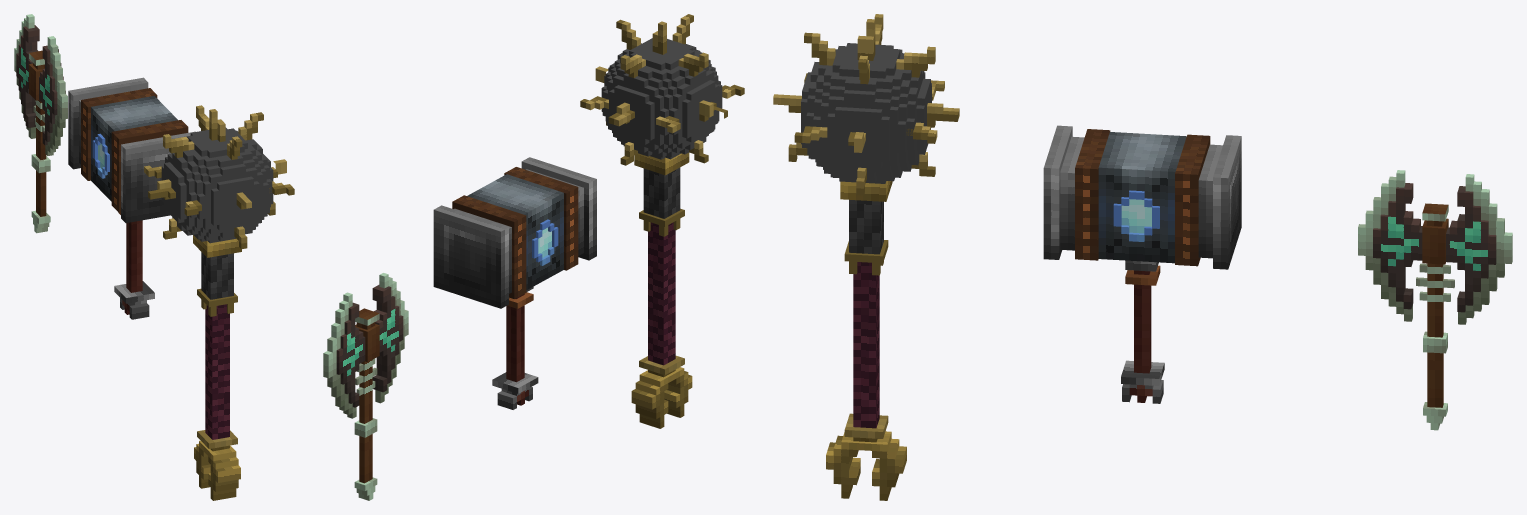
3 views of the same model, side by side, from view 1: azimuth 30°, elevation 25°; view 2: azimuth 150°, elevation 25°; view 3: azimuth 270°, elevation 25° (orthographic). The views are drawn at different scales.
Parts seen in each view (by area): view 1: 4ed55acc-60a9-d548-f8b7-d44a21ff34bc_93, b55968ca-8501-6756-289a-d60beaf6eb86_16, 9ae7938b-2f25-05d6-8280-34dba29d26ab_19, 0c4f16cc-a6b2-230f-c12d-5e7dd8ecb361_18, 791fa0c8-a3e4-9d2e-7b56-59bd6d87309f_22, ba4dd362-4615-7954-f562-383e46ab86ba_120, af7686a8-7926-9037-2f0d-ddc1259a0c06_95, 8cb2ab79-36ca-c885-20e7-a0c3c1f1b60c_20, 3abfd40a-2c9b-8e82-85ea-d9958a1ba3cb_7, 87155342-0f09-fa98-ff52-5e4ddabf266b_36, 4ddf472c-33c1-23c1-bb70-518e352d6bd0_176, d04a48de-6633-4f3d-bc17-846e2948fd23_113 (+13 smaller); view 2: 791fa0c8-a3e4-9d2e-7b56-59bd6d87309f_22, 9ae7938b-2f25-05d6-8280-34dba29d26ab_19, 4ed55acc-60a9-d548-f8b7-d44a21ff34bc_93, 8cb2ab79-36ca-c885-20e7-a0c3c1f1b60c_20, b55968ca-8501-6756-289a-d60beaf6eb86_16, 0c4f16cc-a6b2-230f-c12d-5e7dd8ecb361_18, af7686a8-7926-9037-2f0d-ddc1259a0c06_95, 3abfd40a-2c9b-8e82-85ea-d9958a1ba3cb_7, 87155342-0f09-fa98-ff52-5e4ddabf266b_36, 7df7d300-209a-80f0-0adf-352c854a39c4_121, 4ddf472c-33c1-23c1-bb70-518e352d6bd0_176, d04a48de-6633-4f3d-bc17-846e2948fd23_113 (+9 smaller); view 3: 9ae7938b-2f25-05d6-8280-34dba29d26ab_19, 4ed55acc-60a9-d548-f8b7-d44a21ff34bc_93, 791fa0c8-a3e4-9d2e-7b56-59bd6d87309f_22, 8cb2ab79-36ca-c885-20e7-a0c3c1f1b60c_20, 0c4f16cc-a6b2-230f-c12d-5e7dd8ecb361_18, 87155342-0f09-fa98-ff52-5e4ddabf266b_36, 4ddf472c-33c1-23c1-bb70-518e352d6bd0_176, b55968ca-8501-6756-289a-d60beaf6eb86_16, af7686a8-7926-9037-2f0d-ddc1259a0c06_95, d041ffe0-6b9b-ae83-047a-bb2ea4ae97a7_17, 54bc9bf9-f93f-ae99-4866-9cb1ad30b118_21, 3abfd40a-2c9b-8e82-85ea-d9958a1ba3cb_7 (+5 smaller).
Part boxes in pixels (bbox=[...]): 4ed55acc-60a9-d548-f8b7-d44a21ff34bc_93: bbox=[205, 304, 229, 439]; b55968ca-8501-6756-289a-d60beaf6eb86_16: bbox=[121, 131, 195, 222]; 9ae7938b-2f25-05d6-8280-34dba29d26ab_19: bbox=[91, 96, 177, 201]; 0c4f16cc-a6b2-230f-c12d-5e7dd8ecb361_18: bbox=[111, 120, 188, 212]; 791fa0c8-a3e4-9d2e-7b56-59bd6d87309f_22: bbox=[68, 77, 148, 169]; ba4dd362-4615-7954-f562-383e46ab86ba_120: bbox=[211, 181, 259, 225]; af7686a8-7926-9037-2f0d-ddc1259a0c06_95: bbox=[201, 252, 233, 299]; 8cb2ab79-36ca-c885-20e7-a0c3c1f1b60c_20: bbox=[81, 88, 157, 180]; 3abfd40a-2c9b-8e82-85ea-d9958a1ba3cb_7: bbox=[126, 220, 142, 292]; 87155342-0f09-fa98-ff52-5e4ddabf266b_36: bbox=[16, 53, 65, 115]; 4ddf472c-33c1-23c1-bb70-518e352d6bd0_176: bbox=[164, 154, 270, 223]; d04a48de-6633-4f3d-bc17-846e2948fd23_113: bbox=[187, 128, 247, 156]; 791fa0c8-a3e4-9d2e-7b56-59bd6d87309f_22: bbox=[433, 205, 508, 308]; 9ae7938b-2f25-05d6-8280-34dba29d26ab_19: bbox=[467, 174, 563, 290]; 4ed55acc-60a9-d548-f8b7-d44a21ff34bc_93: bbox=[648, 222, 675, 365]; 8cb2ab79-36ca-c885-20e7-a0c3c1f1b60c_20: bbox=[452, 195, 526, 298]; b55968ca-8501-6756-289a-d60beaf6eb86_16: bbox=[521, 157, 596, 260]; 0c4f16cc-a6b2-230f-c12d-5e7dd8ecb361_18: bbox=[504, 167, 578, 270]; af7686a8-7926-9037-2f0d-ddc1259a0c06_95: bbox=[643, 167, 680, 218]; 3abfd40a-2c9b-8e82-85ea-d9958a1ba3cb_7: bbox=[506, 294, 524, 382]; 87155342-0f09-fa98-ff52-5e4ddabf266b_36: bbox=[336, 315, 403, 374]; 7df7d300-209a-80f0-0adf-352c854a39c4_121: bbox=[609, 89, 654, 140]; 4ddf472c-33c1-23c1-bb70-518e352d6bd0_176: bbox=[608, 67, 715, 142]; d04a48de-6633-4f3d-bc17-846e2948fd23_113: bbox=[629, 38, 694, 70]; 9ae7938b-2f25-05d6-8280-34dba29d26ab_19: bbox=[1098, 132, 1186, 263]; 4ed55acc-60a9-d548-f8b7-d44a21ff34bc_93: bbox=[853, 262, 879, 428]; 791fa0c8-a3e4-9d2e-7b56-59bd6d87309f_22: bbox=[1213, 135, 1241, 269]; 8cb2ab79-36ca-c885-20e7-a0c3c1f1b60c_20: bbox=[1175, 134, 1210, 266]; 0c4f16cc-a6b2-230f-c12d-5e7dd8ecb361_18: bbox=[1075, 129, 1110, 260]; 87155342-0f09-fa98-ff52-5e4ddabf266b_36: bbox=[1373, 226, 1496, 264]; 4ddf472c-33c1-23c1-bb70-518e352d6bd0_176: bbox=[835, 107, 882, 168]; b55968ca-8501-6756-289a-d60beaf6eb86_16: bbox=[1043, 125, 1072, 259]; af7686a8-7926-9037-2f0d-ddc1259a0c06_95: bbox=[849, 200, 883, 254]; d041ffe0-6b9b-ae83-047a-bb2ea4ae97a7_17: bbox=[1060, 136, 1084, 250]; 54bc9bf9-f93f-ae99-4866-9cb1ad30b118_21: bbox=[1198, 144, 1222, 258]; 3abfd40a-2c9b-8e82-85ea-d9958a1ba3cb_7: bbox=[1134, 270, 1151, 373].
Bounding box in the file's own units: 12.67 × 33.5 × 47.68.
5 materials, 5 textured.
